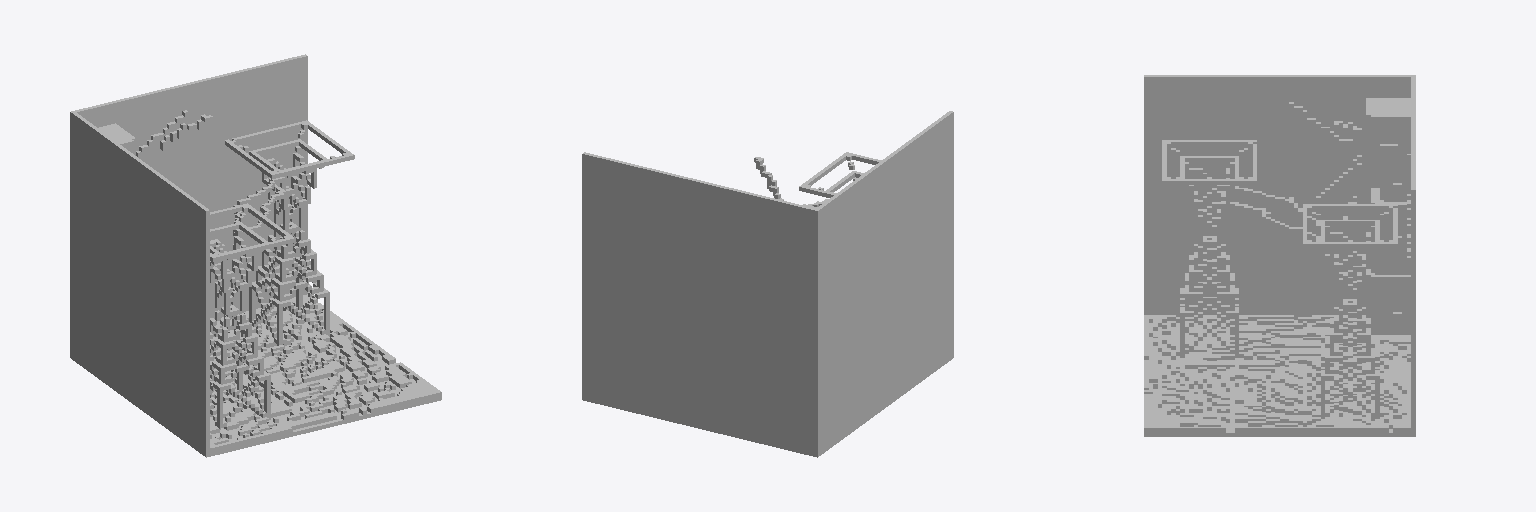
File: the bunkers.obj
3 renders of one model, left to right at view 1: azimuth 30°, elevation 25°; view 2: azimuth 150°, elevation 25°; view 3: azimuth 270°, elevation 25°, orthographic.
Visible parts, largest first — view 1: object 1; view 2: object 1; view 3: object 1.
Part boxes in pixels (x1,y1,x2,y2): object 1: (70,54,441,457); object 1: (582,111,953,457); object 1: (1144,75,1415,436).
Bounding box in the file's own units: 6 × 6 × 6.